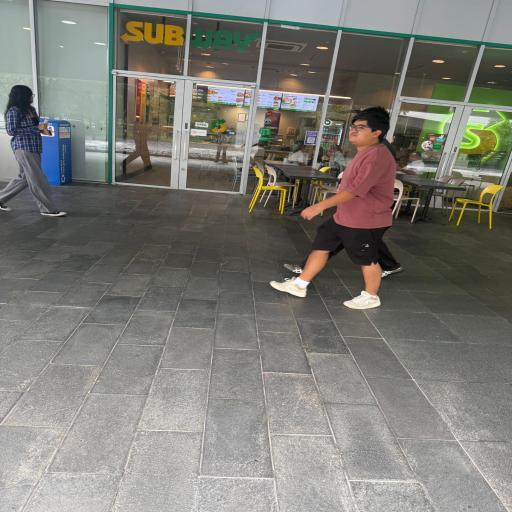person_left: (270, 106, 396, 309), (284, 107, 404, 278)
person_right: (0, 85, 67, 217)
